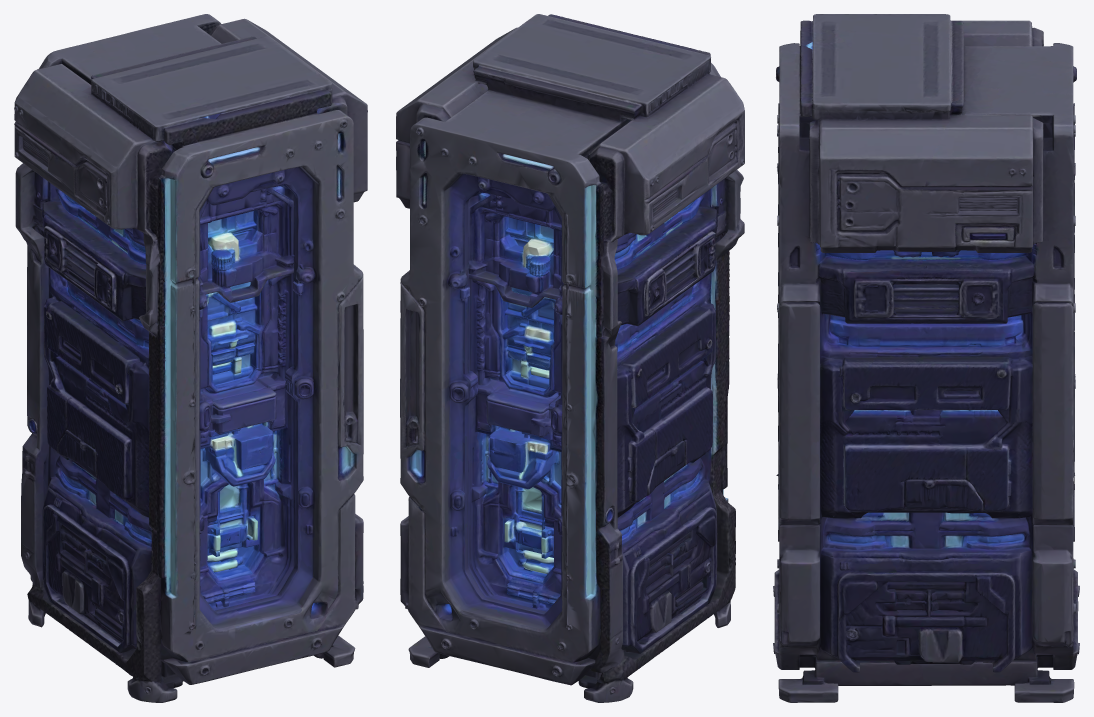
The model's file is server-rack.glb.
The picture shows the model from 3 angles, left to right: view 1: azimuth 30°, elevation 25°; view 2: azimuth 150°, elevation 25°; view 3: azimuth 270°, elevation 25°; orthographic projection. The views are drawn at different scales.
Parts seen in each view (by area): view 1: tripo_node_8f852a52-feb5-4a72-a7bb-9017c761167e; view 2: tripo_node_8f852a52-feb5-4a72-a7bb-9017c761167e; view 3: tripo_node_8f852a52-feb5-4a72-a7bb-9017c761167e.
Part boxes in pixels (x1,y1,x2,y2): tripo_node_8f852a52-feb5-4a72-a7bb-9017c761167e: [14, 14, 367, 702]; tripo_node_8f852a52-feb5-4a72-a7bb-9017c761167e: [396, 14, 744, 702]; tripo_node_8f852a52-feb5-4a72-a7bb-9017c761167e: [773, 14, 1079, 702].
Size of the model in its own units: 0.463 by 0.9796 by 0.4586.
Materials: 1 (1 with a texture image).
